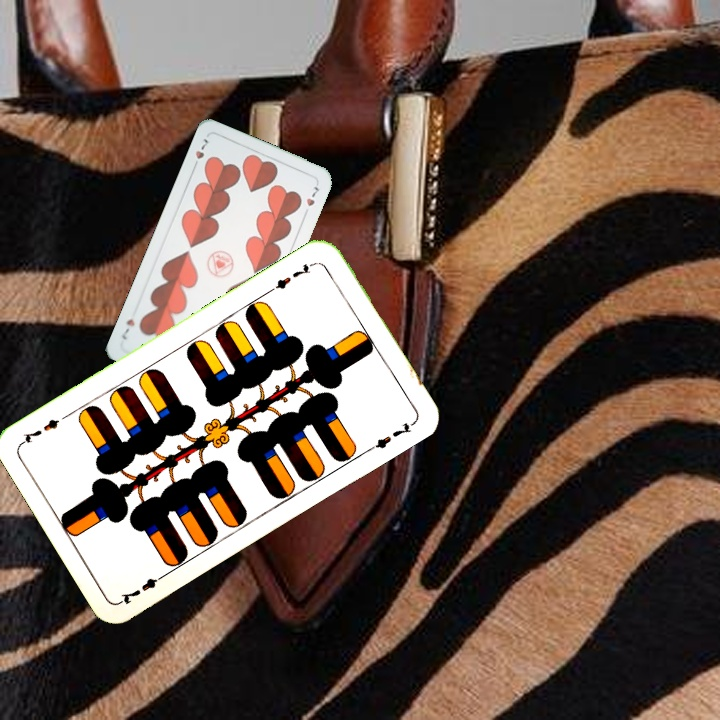E7: (116, 569, 169, 607), (266, 258, 319, 295)
H7: (189, 134, 211, 172)
